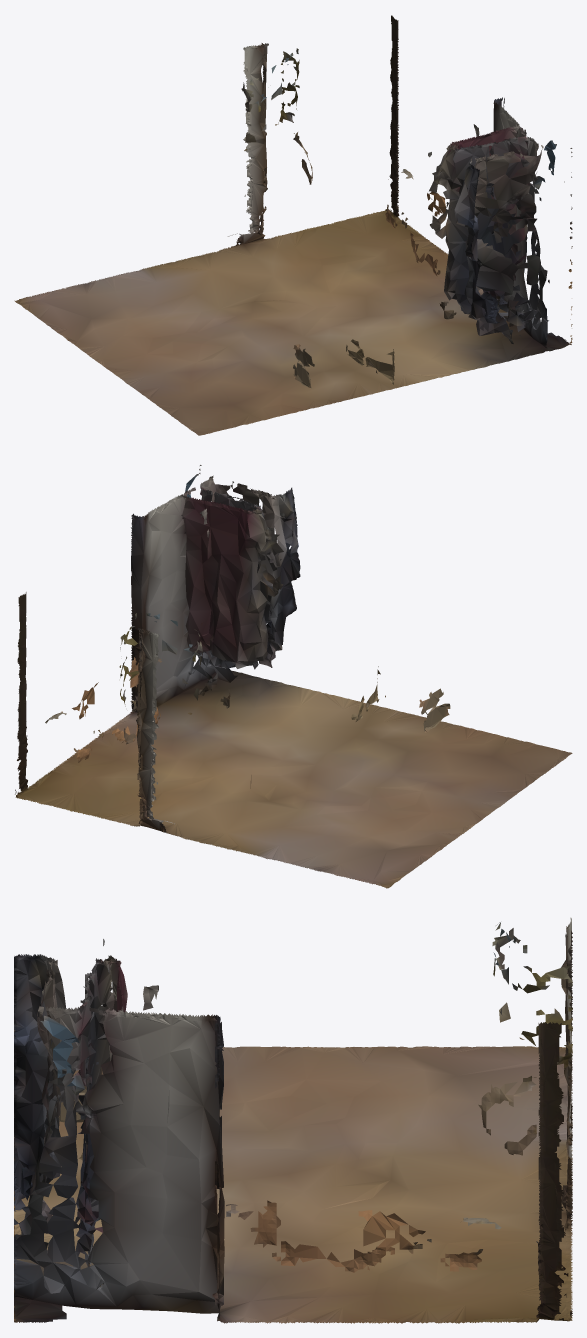
Rendered from coarse.glb.
3 renders of one model, top to bottom at view 1: azimuth 30°, elevation 25°; view 2: azimuth 150°, elevation 25°; view 3: azimuth 270°, elevation 25°, orthographic. The views are drawn at different scales.
Size of the model in its own units: 2.54 by 1.3 by 2.17.
